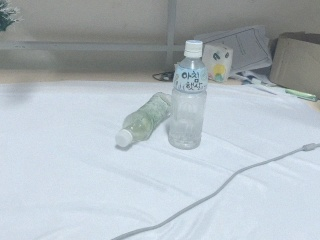bottle: (168, 39, 209, 150), (114, 90, 180, 151)
box: (270, 31, 320, 101)
